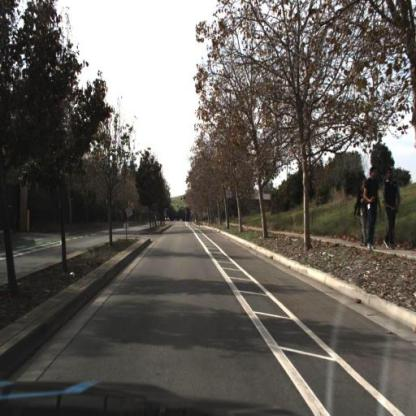pedestrian: (364, 167, 383, 250), (383, 169, 401, 251), (355, 176, 371, 248), (166, 216, 171, 222)
